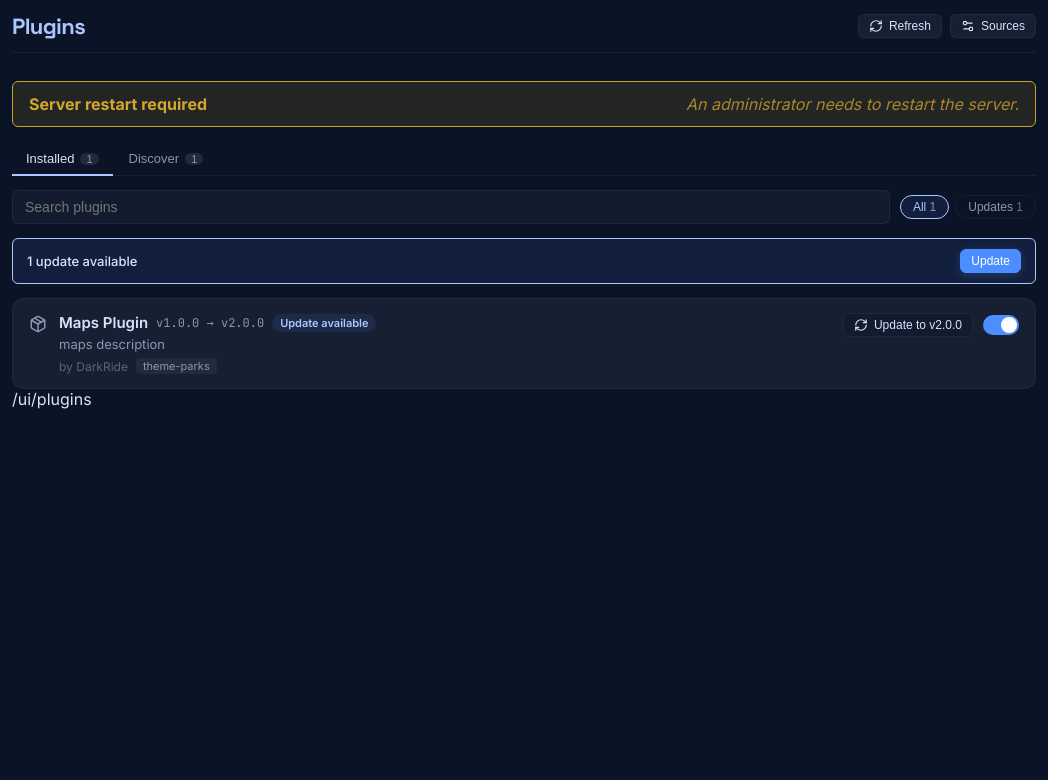
Test: PluginsWorkspace: updates › updates a plugin from the Installed tab
Click the button "Update to v2.0.0": click(908, 325) x1=843 y1=313 x2=973 y2=337
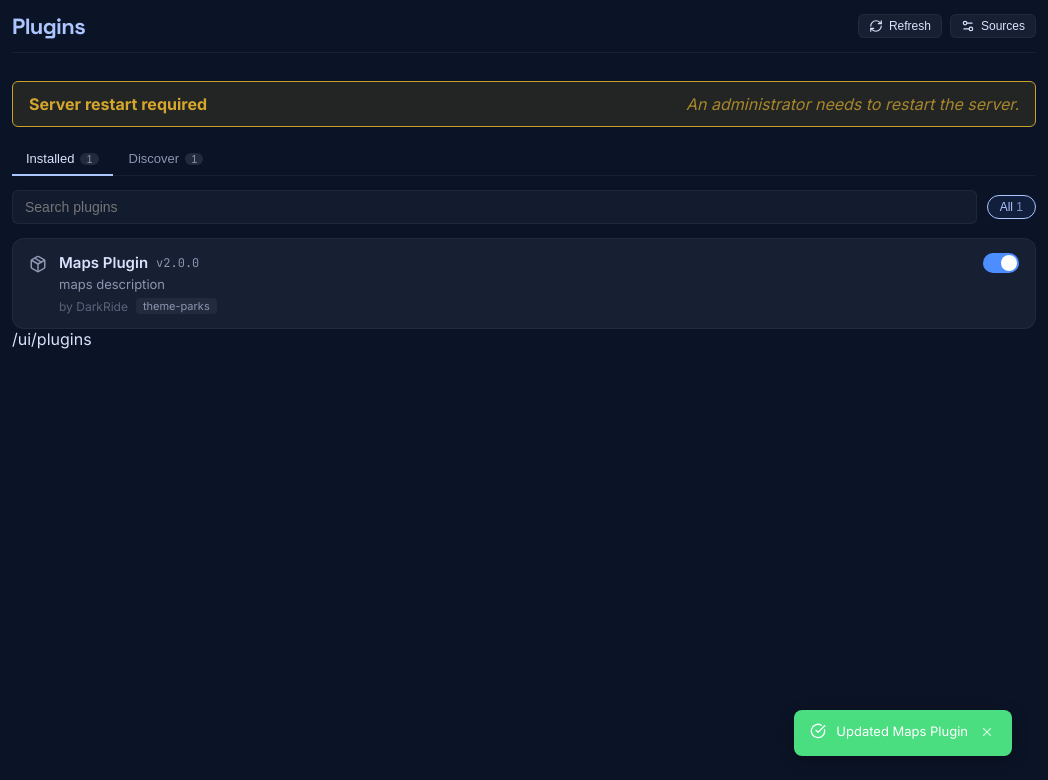
Now the text "Updated Maps Plugin" is shown, box x1=836 y1=722 x2=968 y2=740
Now the button "Update to" is gone
